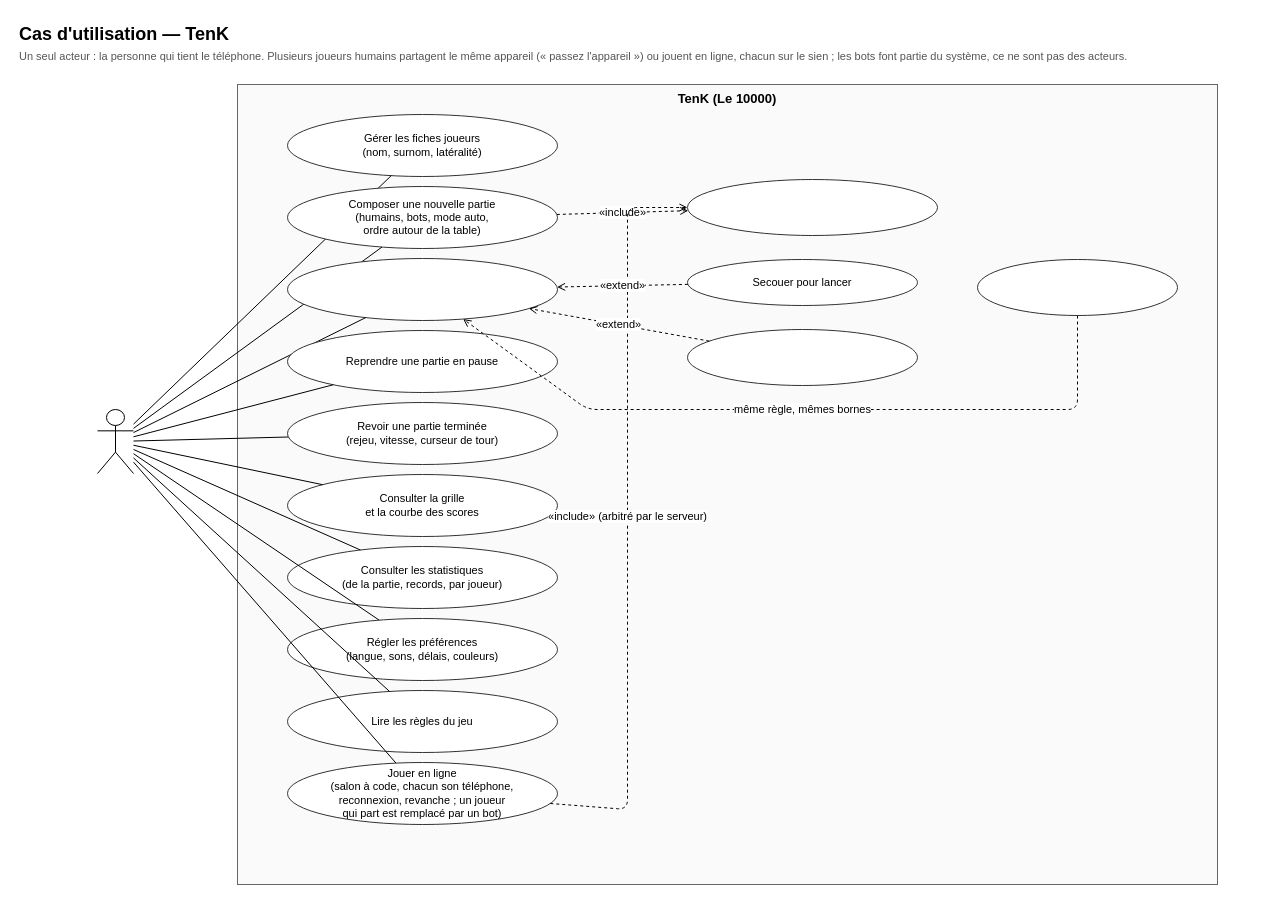
Some shapes in this 1284 by 902 pixel diagram are drawn without their labels. Each missing label, with the centre of its shape:
Faire jouer les bots (AiStrategy): pixel 1077 287
Jouer un tour (lancer, garder des 5, s'arrêter, reprendre une main héritée): pixel 422 289
Joueur: pixel 115 441
Passer l'appareil au joueur suivant: pixel 802 357
Tirer l'ordre de jeu (départage automatique): pixel 812 207
